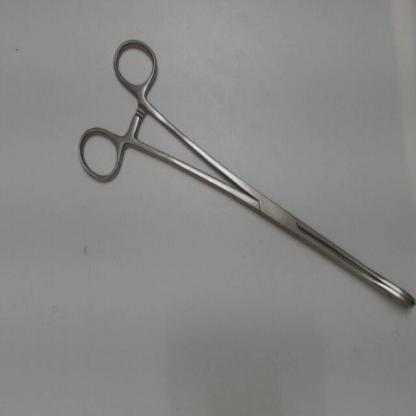Sponge Forceps: (69, 26, 415, 316)
